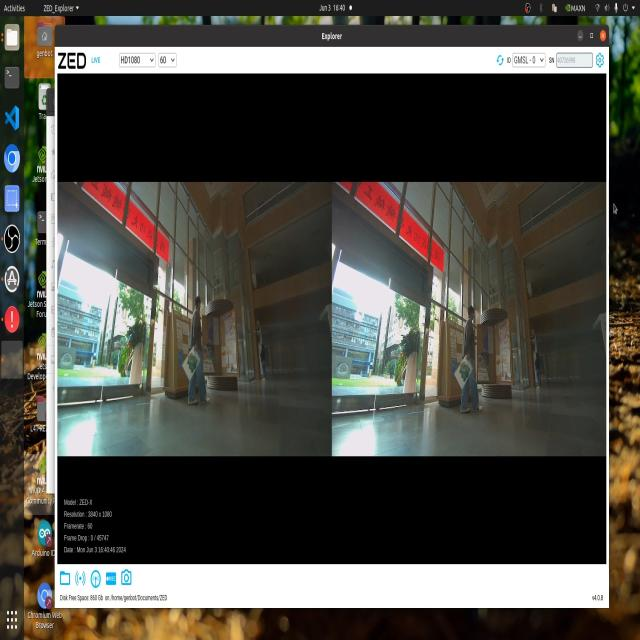green: (185, 348, 199, 374), (462, 357, 473, 380)
